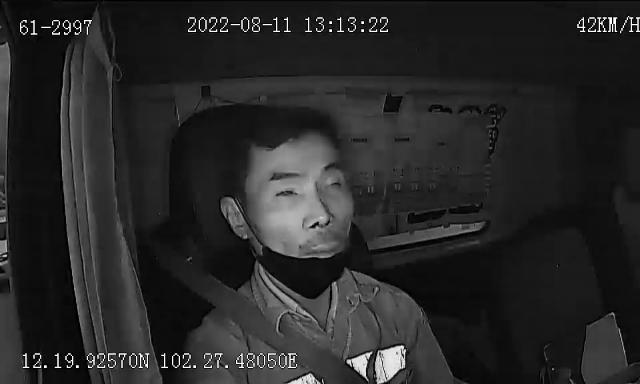SafeDriving: (417, 96, 461, 122), (270, 179, 308, 203), (320, 170, 348, 198)
Seatbelt: (182, 270, 374, 384)
